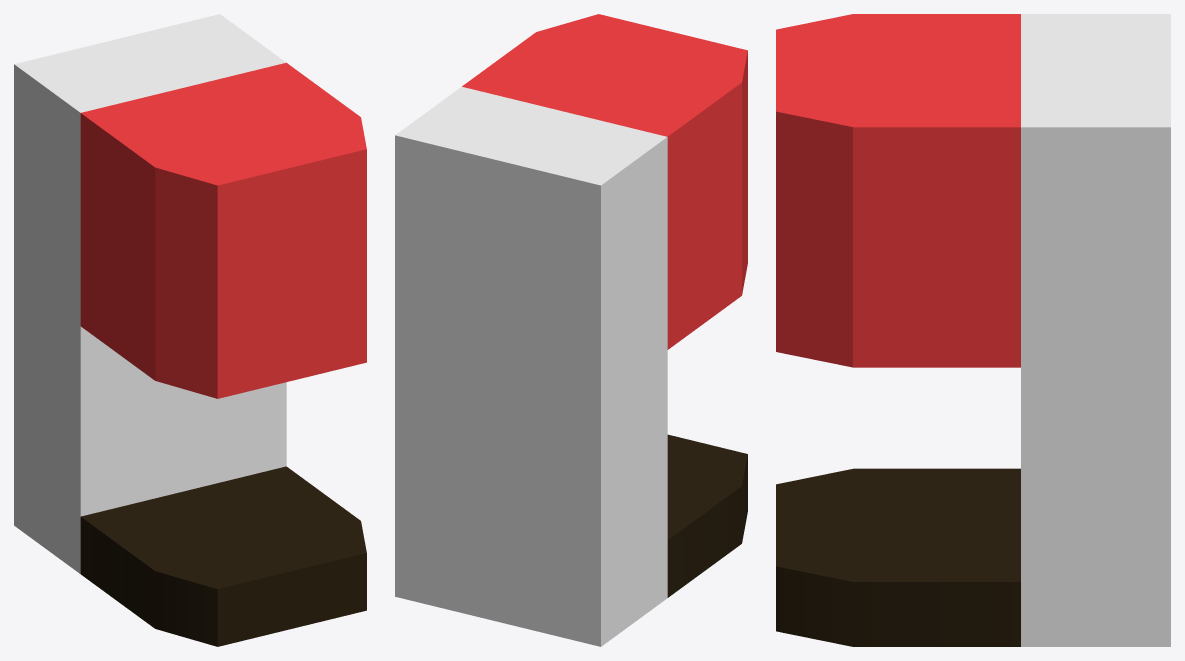
The model's file is Itr_Obj_Coffeepot_Body_05.FBX.
3 renders of one model, left to right at view 1: azimuth 30°, elevation 25°; view 2: azimuth 150°, elevation 25°; view 3: azimuth 270°, elevation 25°, orthographic. The views are drawn at different scales.
Parts seen in each view (by area): view 1: Itr_Obj_Coffeepot_Body_05; view 2: Itr_Obj_Coffeepot_Body_05; view 3: Itr_Obj_Coffeepot_Body_05.
Part boxes in pixels (x1,y1,x2,y2): Itr_Obj_Coffeepot_Body_05: (14, 14, 366, 646); Itr_Obj_Coffeepot_Body_05: (395, 14, 747, 646); Itr_Obj_Coffeepot_Body_05: (776, 14, 1170, 646).
Bounding box in the file's own units: 7.13 × 15.27 × 10.52.
